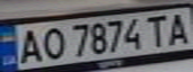4: (124, 15, 148, 51)
7: (66, 20, 90, 57), (103, 17, 127, 53)
8: (87, 19, 109, 55)
A: (12, 27, 45, 65), (163, 9, 193, 45)
O: (36, 25, 66, 61)
T: (142, 12, 172, 48)
